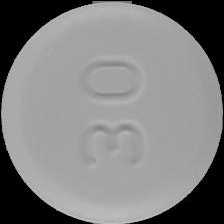13668-221: (0, 0, 224, 224)
